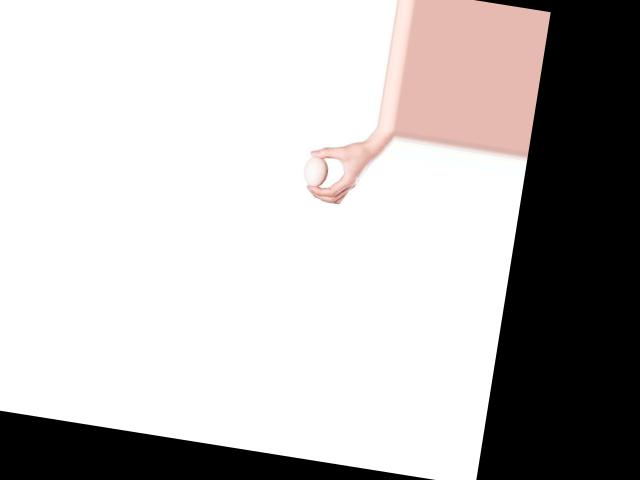egg: (302, 154, 330, 188)
